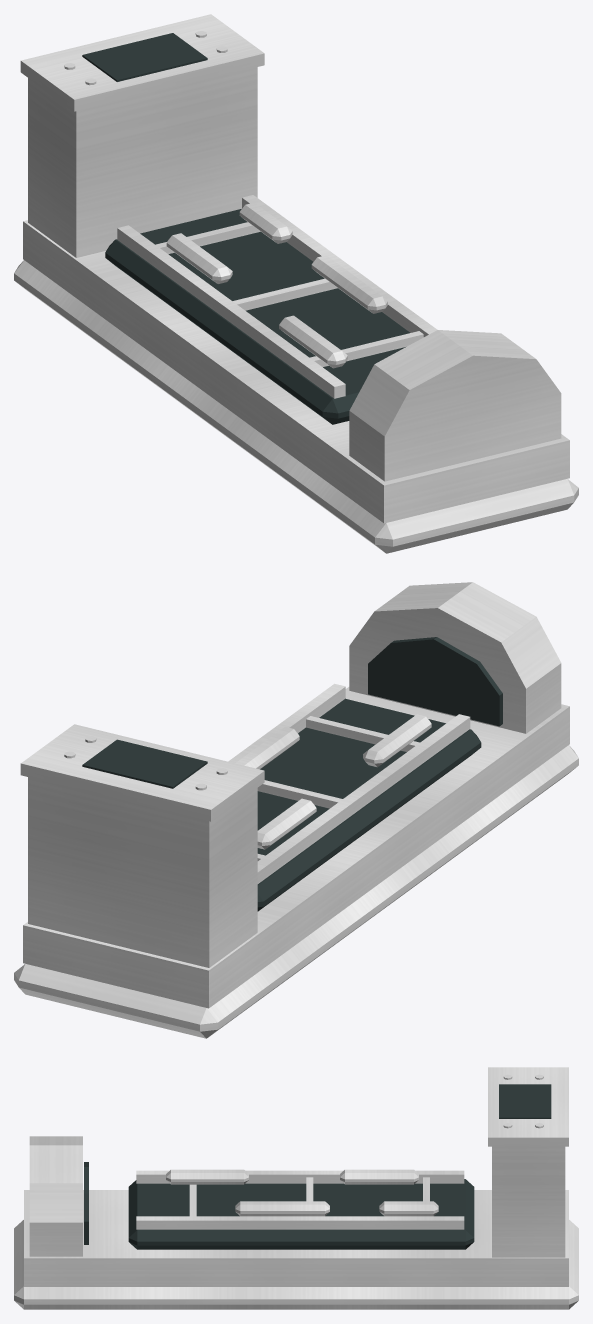
File: neural_supercharger.obj
3 renders of one model, top to bottom at view 1: azimuth 30°, elevation 25°; view 2: azimuth 150°, elevation 25°; view 3: azimuth 270°, elevation 25°, orthographic. The views are drawn at different scales.
Parts seen in each view (by area): view 1: neural_supercharger; view 2: neural_supercharger; view 3: neural_supercharger.
Boxes of the visible parts, x1=… form: neural_supercharger: x1=14, y1=14, x2=578, y2=553; neural_supercharger: x1=14, y1=582, x2=578, y2=1038; neural_supercharger: x1=14, y1=1067, x2=578, y2=1309.
Bounding box in the file's own units: 0.9 × 0.98 × 2.86.
